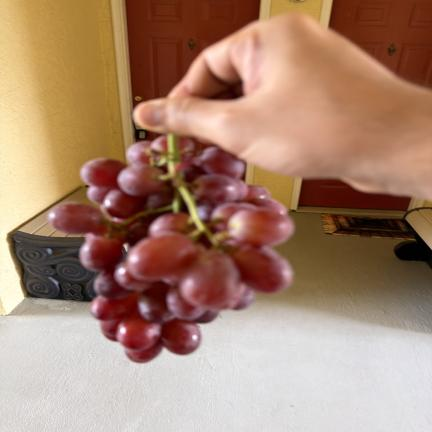grape_cluster: (48, 135, 294, 363)
